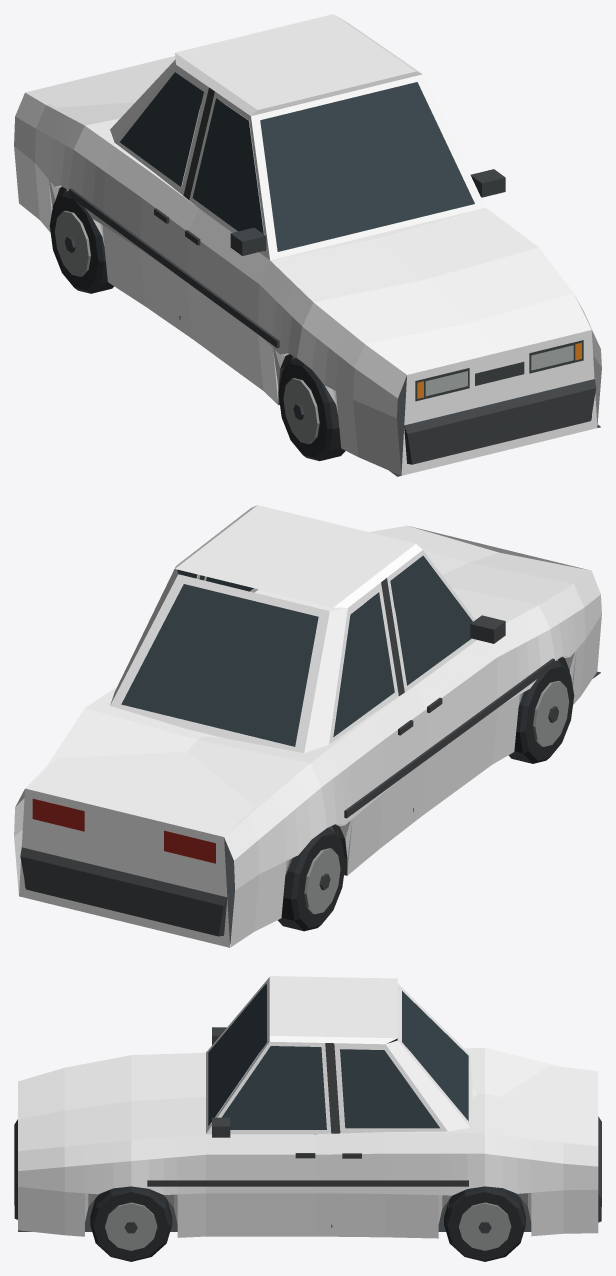
Rendered from tomoe_kogetsu_s_97.glb.
3 views of the same model, one above another, from view 1: azimuth 30°, elevation 25°; view 2: azimuth 150°, elevation 25°; view 3: azimuth 270°, elevation 25° (orthographic). The views are drawn at different scales.
Visible parts, largest first — view 1: tomoe_kogetsu_s_97; view 2: tomoe_kogetsu_s_97; view 3: tomoe_kogetsu_s_97.
Boxes of the visible parts, <box> form: tomoe_kogetsu_s_97: <box>14,14,601,476</box>; tomoe_kogetsu_s_97: <box>14,505,601,947</box>; tomoe_kogetsu_s_97: <box>14,976,601,1261</box>.
Bounding box in the file's own units: 1.63 × 1.53 × 3.87.
8 materials, 1 textured.
